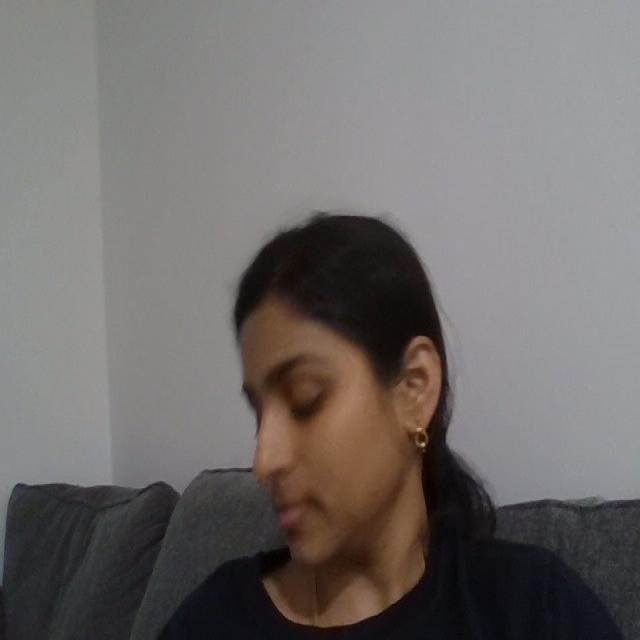No Hat: (178, 204, 399, 360)
